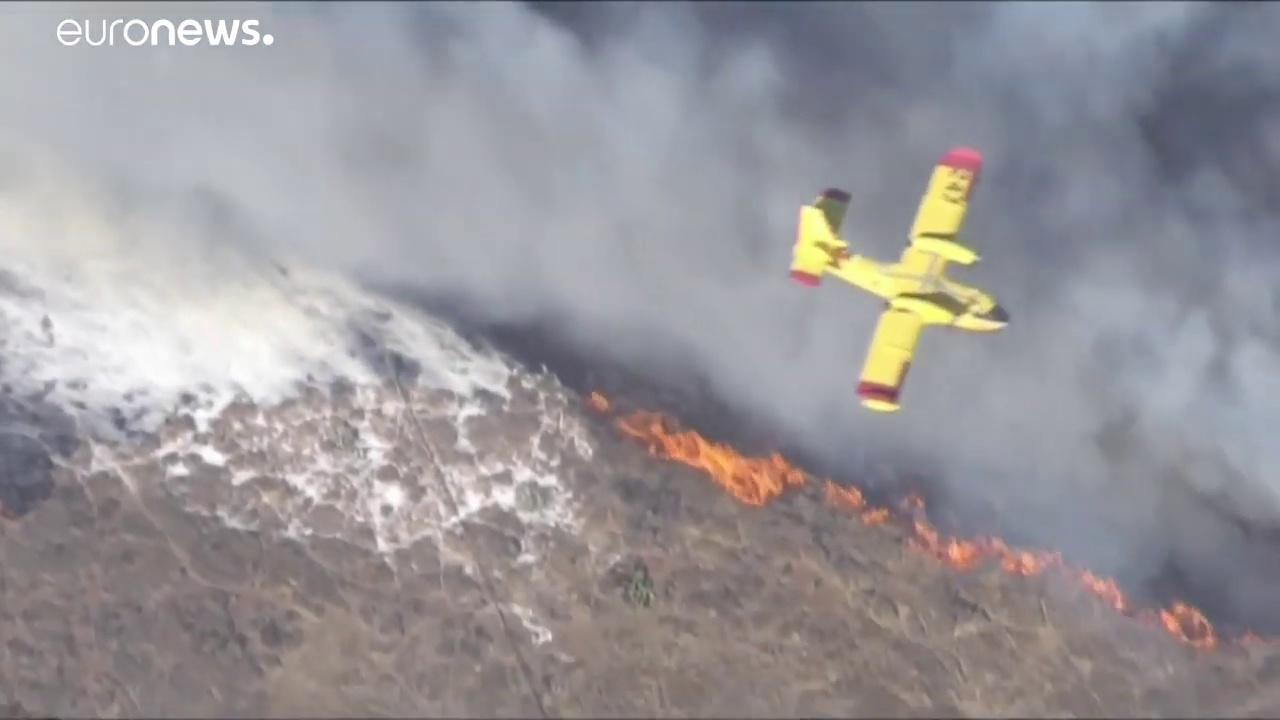fire: (648, 417, 778, 505)
smoke: (205, 45, 760, 333), (959, 362, 1271, 537), (919, 20, 1279, 154)
